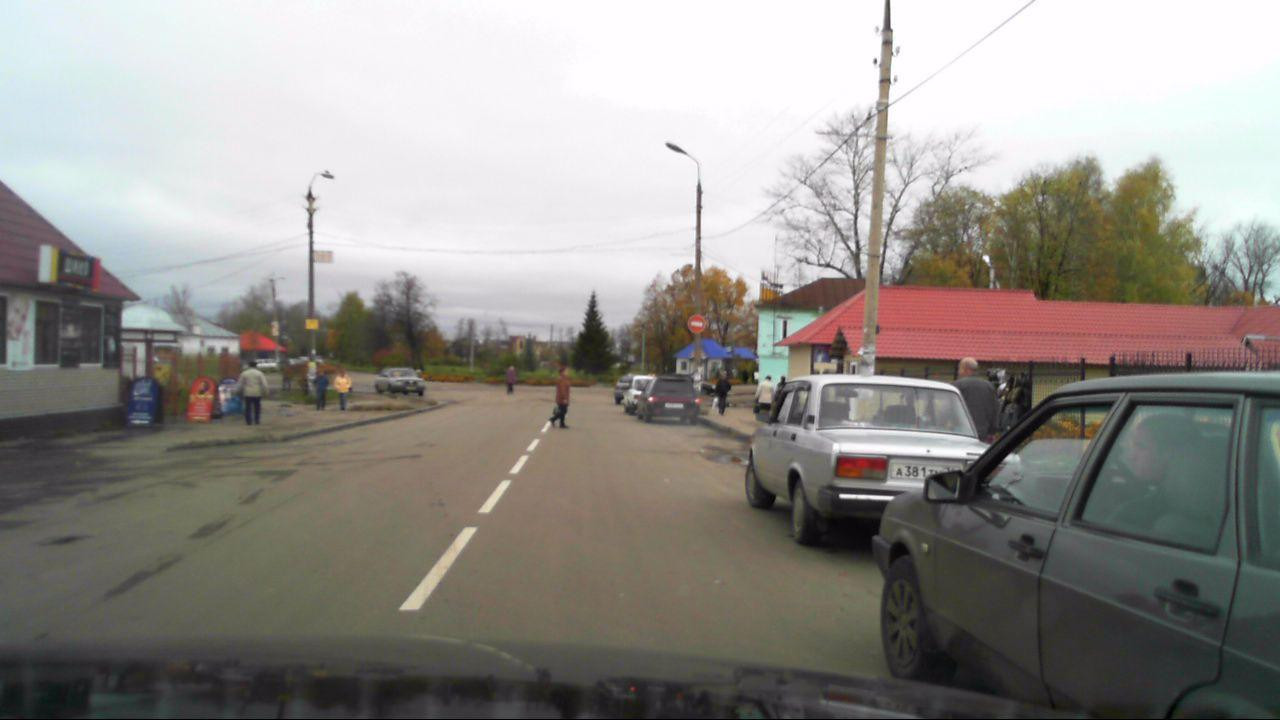3_1: (687, 313, 706, 335)
